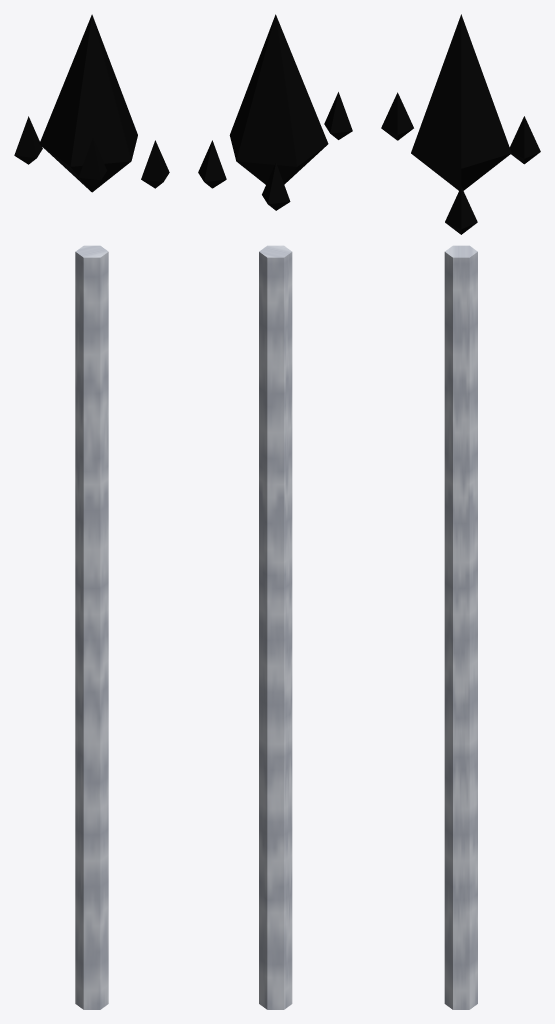
Rendered from rival_ice_staff.obj.
The picture shows the model from 3 angles, left to right: view 1: azimuth 30°, elevation 25°; view 2: azimuth 150°, elevation 25°; view 3: azimuth 270°, elevation 25°; orthographic projection.
Visible parts, largest first — view 1: rival_ice_staff; view 2: rival_ice_staff; view 3: rival_ice_staff.
Part boxes in pixels (left/top/right/bottom): rival_ice_staff: left=14, top=14, right=169, bottom=1009; rival_ice_staff: left=198, top=14, right=352, bottom=1009; rival_ice_staff: left=381, top=14, right=540, bottom=1009.
Bounding box in the file's own units: 0.2695 × 2.06 × 0.301.
